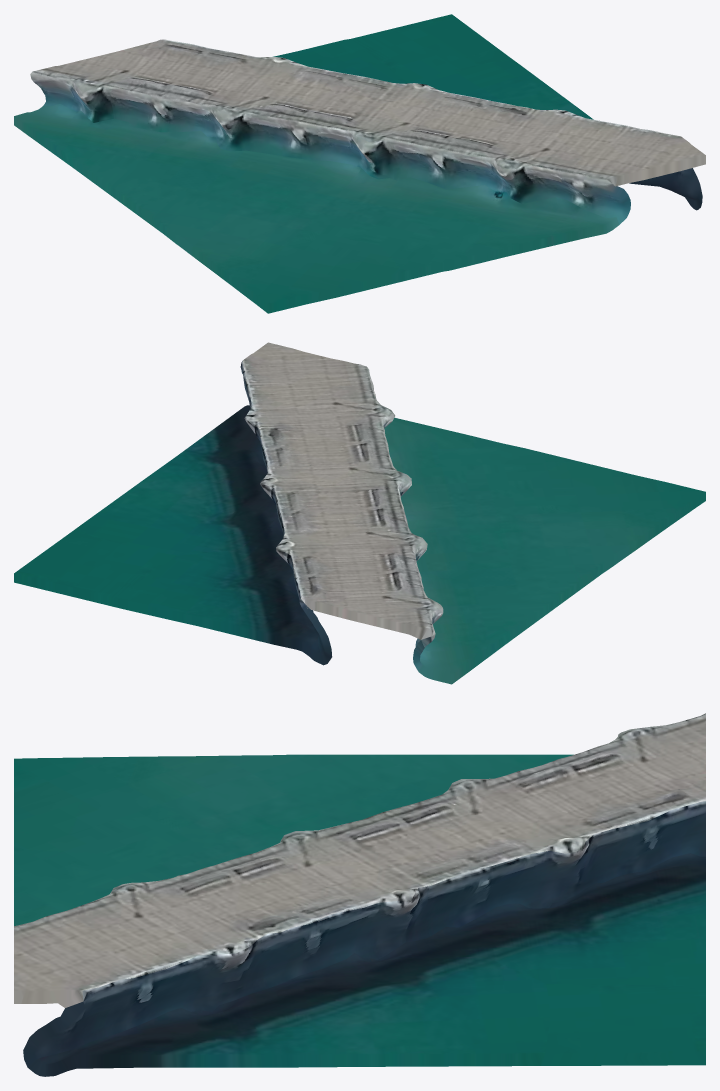
File: z20-167783-405207-h0-yup-uvflip-v3-world.glb
3 renders of one model, top to bottom at view 1: azimuth 30°, elevation 25°; view 2: azimuth 150°, elevation 25°; view 3: azimuth 270°, elevation 25°, orthographic. The views are drawn at different scales.
Bounding box in the file's own units: 30.16 × 4.36 × 30.32.
Materials: 1 (1 with a texture image).
